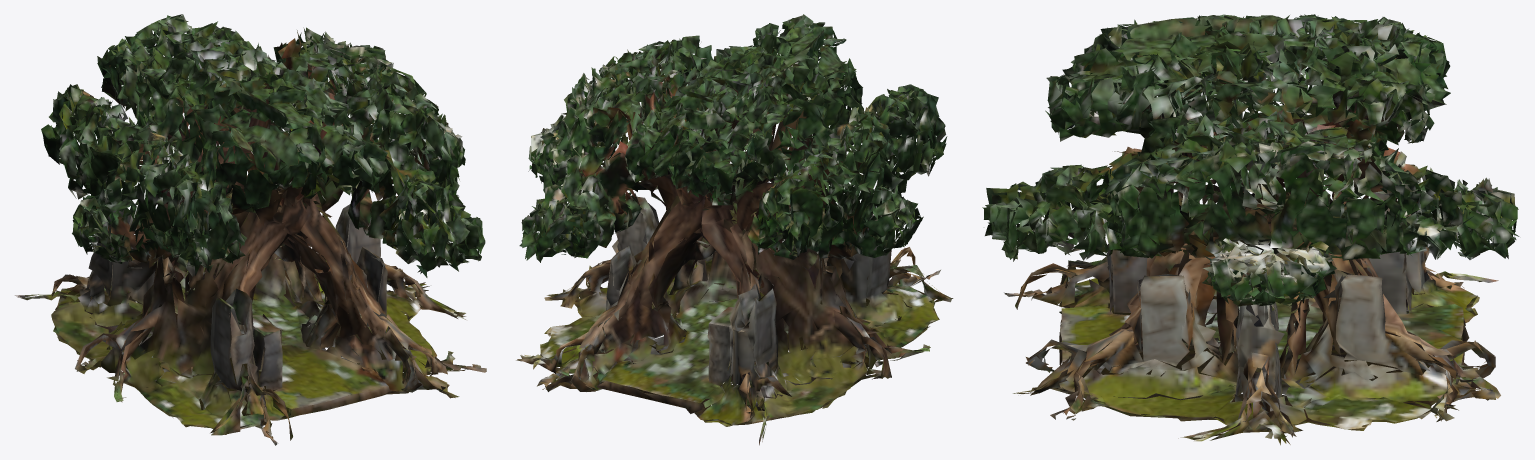
File: F3D_02_BentTree.fbx
3 views of the same model, side by side, from view 1: azimuth 30°, elevation 25°; view 2: azimuth 150°, elevation 25°; view 3: azimuth 270°, elevation 25° (orthographic). The views are drawn at different scales.
Parts seen in each view (by area): view 1: F3D_02_BentTree; view 2: F3D_02_BentTree; view 3: F3D_02_BentTree.
Boxes of the visible parts, x1,y1,x2,y2 form: F3D_02_BentTree: (15, 14, 486, 445); F3D_02_BentTree: (516, 14, 953, 445); F3D_02_BentTree: (982, 14, 1519, 445).
Size of the model in its own units: 1.31 by 1 by 1.47.
Materials: 1 (1 with a texture image).
